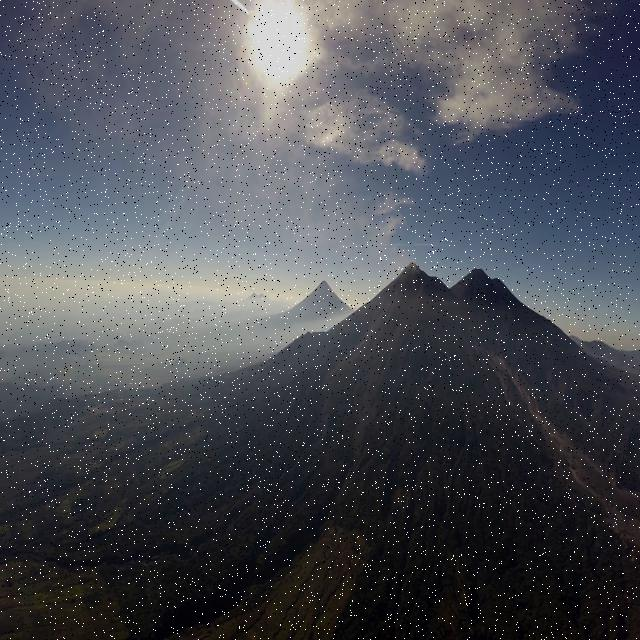Summit: (398, 258, 427, 278)
